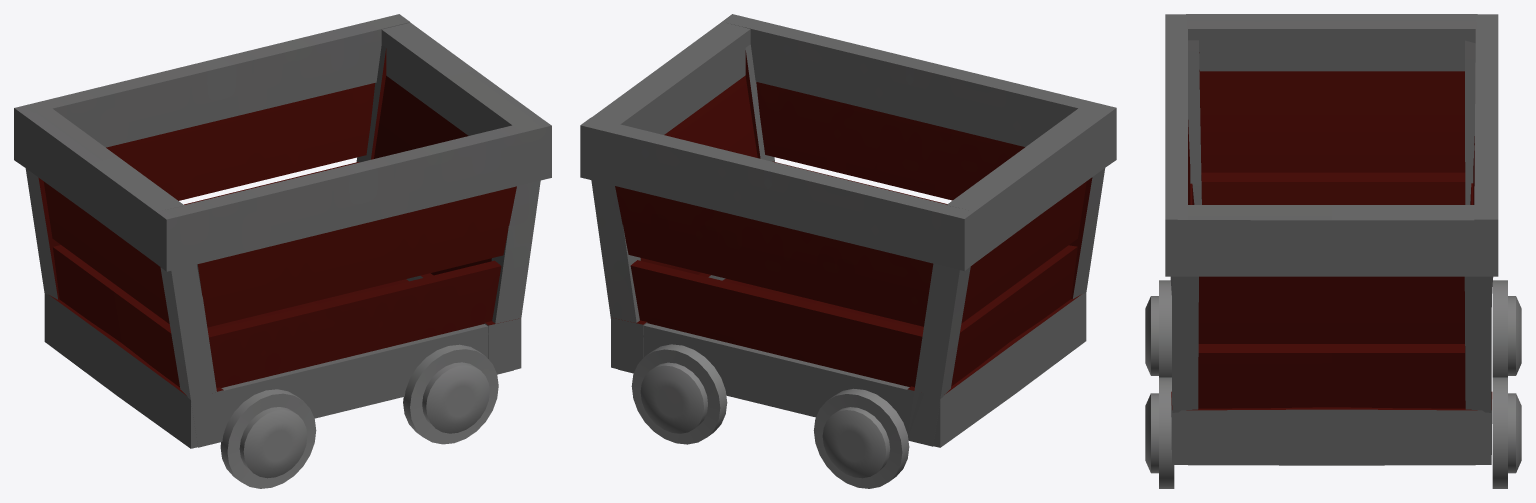
File: Carrinho.fbx
3 renders of one model, left to right at view 1: azimuth 30°, elevation 25°; view 2: azimuth 150°, elevation 25°; view 3: azimuth 270°, elevation 25°, orthographic. The views are drawn at different scales.
Visible parts, largest first — view 1: Ferros, Madeira, Rodas; view 2: Ferros, Madeira, Rodas; view 3: Ferros, Madeira, Rodas.
Part boxes in pixels (x1=…): Ferros: x1=14, y1=14, x2=551, y2=448; Madeira: x1=43, y1=75, x2=518, y2=395; Rodas: x1=220, y1=344, x2=498, y2=488; Ferros: x1=580, y1=14, x2=1116, y2=447; Madeira: x1=612, y1=75, x2=1086, y2=394; Rodas: x1=631, y1=344, x2=909, y2=488; Ferros: x1=1165, y1=14, x2=1498, y2=465; Madeira: x1=1171, y1=71, x2=1492, y2=410; Rodas: x1=1145, y1=280, x2=1521, y2=488.
Bounding box in the file's own units: 421 × 304 × 326.
1 material, 1 textured.
